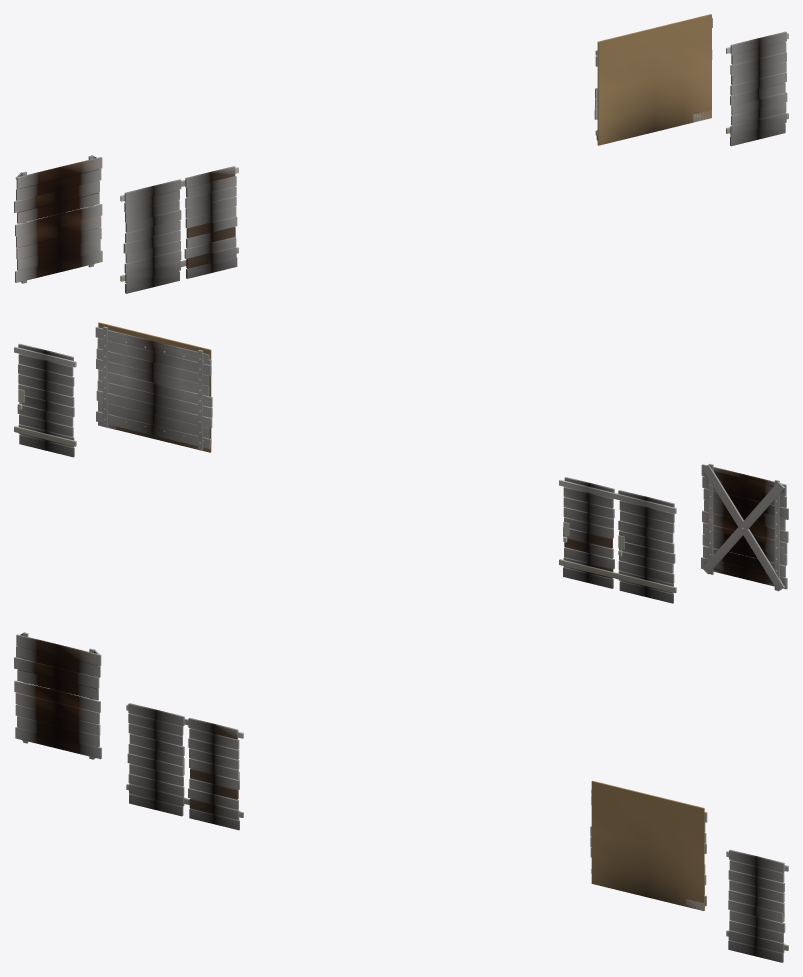
Rendered from boards_row_workshop.glb.
The picture shows the model from 3 angles, top to bottom: view 1: azimuth 30°, elevation 25°; view 2: azimuth 150°, elevation 25°; view 3: azimuth 330°, elevation 25°; orthographic projection.
Parts seen in each view (by area): view 1: boards_row_workshop; view 2: boards_row_workshop; view 3: boards_row_workshop.
Part boxes in pixels (bbox=[...]): boards_row_workshop: bbox=[14, 14, 788, 293]; boards_row_workshop: bbox=[14, 322, 788, 603]; boards_row_workshop: bbox=[14, 632, 788, 962].
Size of the model in its own units: 16.05 by 2.91 by 0.245.
